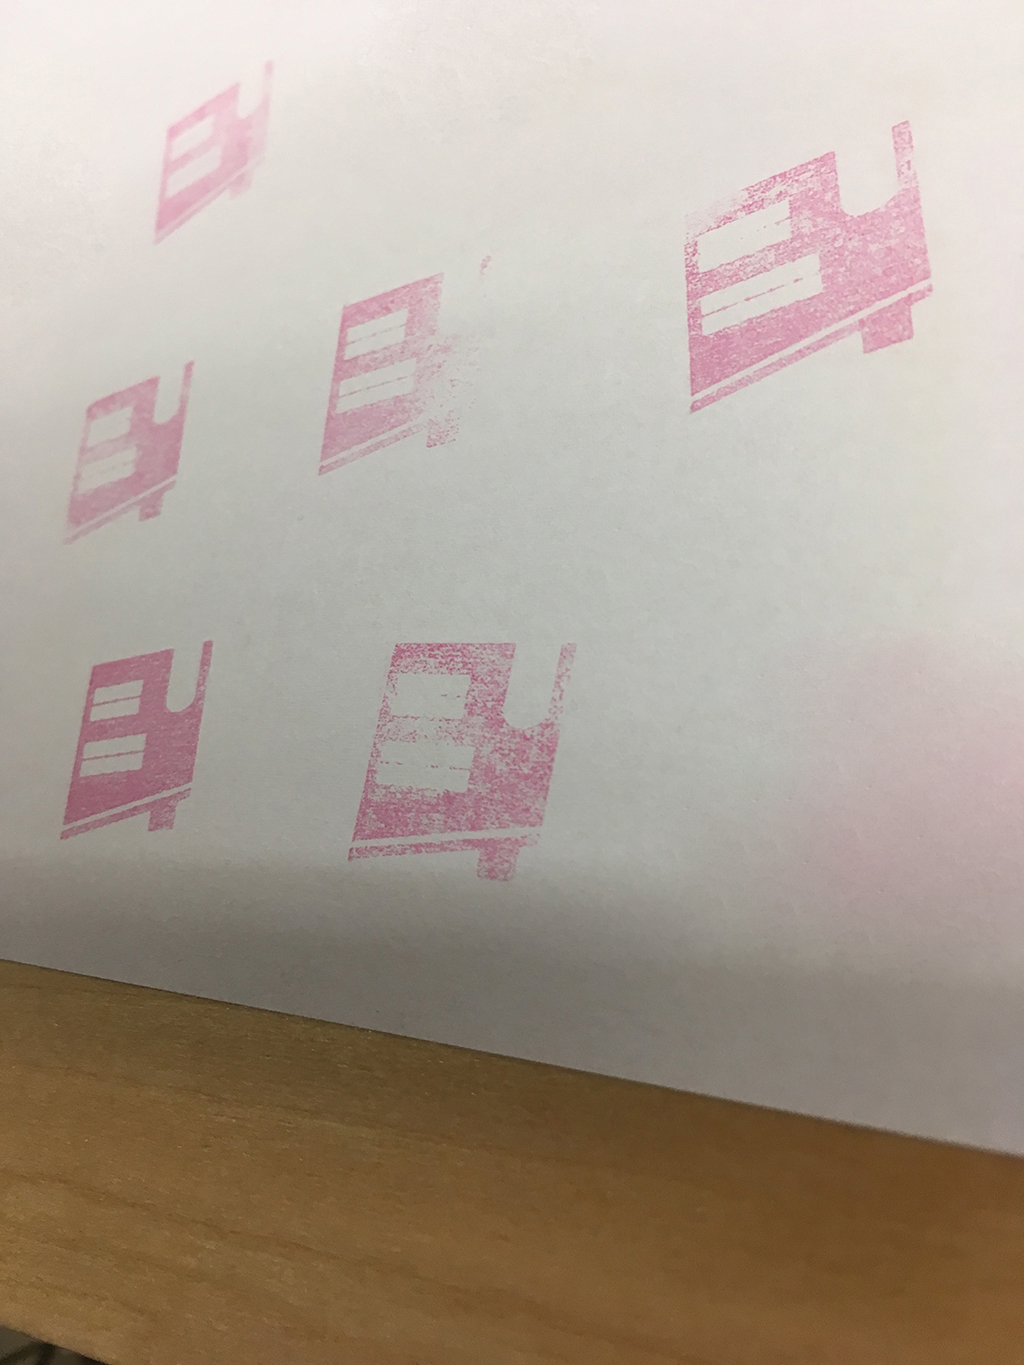house: (663, 111, 964, 420), (316, 620, 585, 897), (314, 242, 512, 501), (63, 631, 225, 847), (55, 344, 210, 565), (136, 46, 295, 255)
